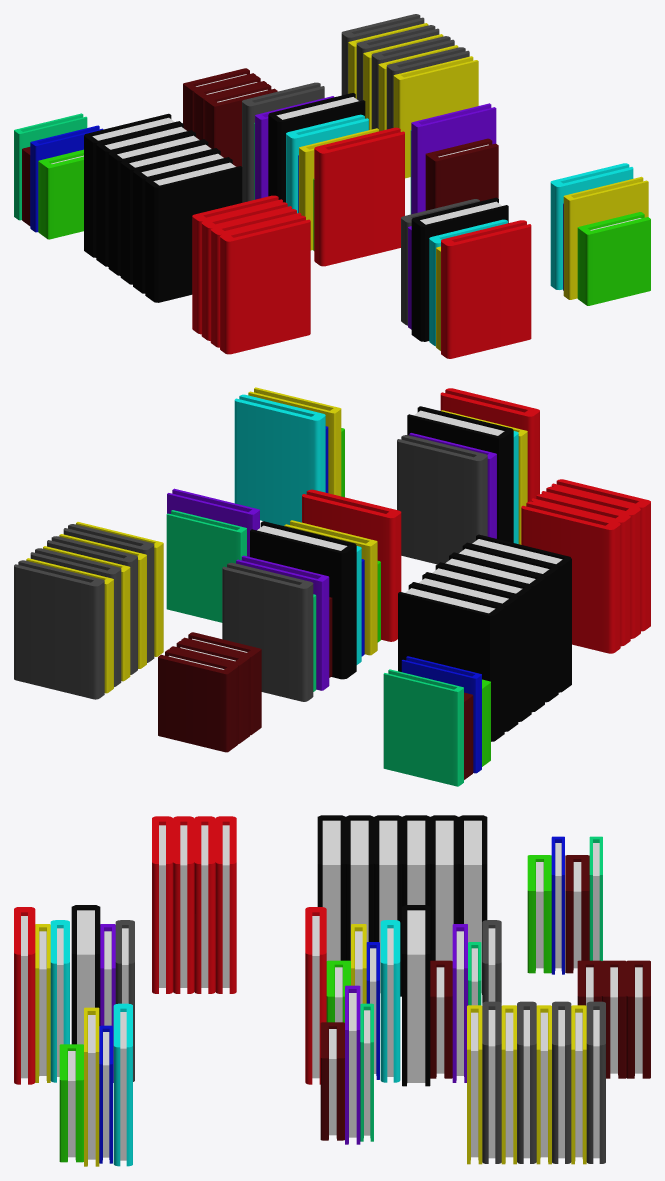
The model's file is buku buku.fbx.
3 views of the same model, one above another, from view 1: azimuth 30°, elevation 25°; view 2: azimuth 150°, elevation 25°; view 3: azimuth 270°, elevation 25° (orthographic). The views are drawn at different scales.
Visible parts, largest first — view 1: Cube.041, Cube.088, Cube.001, Cube.008, Cube.092, Cube.060, Cube.080, Cube.087, Cube.091, Cube.081, Cube.099, Cube.011 (+29 smaller); view 2: Cube.079, Cube.089, Cube.084, Cube.029, Cube.058, Cube.037, Cube.097, Cube.095, Cube.082, Cube.011, Cube.001, Cube.087 (+29 smaller); view 3: Cube.011, Cube.027, Cube.043, Cube.042, Cube.058, Cube.088, Cube.008, Cube.041, Cube.037, Cube.087, Cube.009, Cube.001 (+36 smaller).
Boxes of the visible parts, left/top/right/bottom form: Cube.041: left=220, top=215, right=310, bottom=354; Cube.088: left=441, top=220, right=531, bottom=358; Cube.001: left=314, top=127, right=404, bottom=266; Cube.008: left=145, top=158, right=242, bottom=302; Cube.092: left=577, top=212, right=650, bottom=305; Cube.060: left=393, top=56, right=478, bottom=178; Cube.080: left=425, top=138, right=498, bottom=210; Cube.087: left=411, top=197, right=508, bottom=341; Cube.091: left=563, top=176, right=648, bottom=299; Cube.081: left=411, top=103, right=496, bottom=214; Cube.099: left=38, top=149, right=83, bottom=239; Cube.011: left=268, top=93, right=365, bottom=202; Cube.079: left=14, top=560, right=104, bottom=699; Cube.089: left=234, top=394, right=325, bottom=525; Cube.084: left=397, top=435, right=487, bottom=564; Cube.029: left=222, top=562, right=313, bottom=701; Cube.058: left=521, top=501, right=620, bottom=653; Cube.037: left=398, top=584, right=504, bottom=741; Cube.097: left=383, top=669, right=463, bottom=786; Cube.095: left=158, top=649, right=238, bottom=752; Cube.082: left=166, top=510, right=246, bottom=622; Cube.011: left=250, top=521, right=356, bottom=679; Cube.001: left=302, top=489, right=401, bottom=641; Cube.087: left=407, top=406, right=513, bottom=542; Cube.011: left=402, top=905, right=430, bottom=1086; Cube.027: left=430, top=815, right=458, bottom=960; Cube.043: left=194, top=816, right=215, bottom=993; Cube.042: left=173, top=816, right=194, bottom=993; Cube.058: left=215, top=816, right=236, bottom=993; Cube.088: left=14, top=907, right=35, bottom=1084; Cube.008: left=317, top=815, right=345, bottom=960; Cube.041: left=152, top=816, right=172, bottom=993; Cube.037: left=458, top=815, right=487, bottom=994; Cube.087: left=71, top=905, right=100, bottom=1044; Cube.009: left=345, top=815, right=373, bottom=960; Cube.001: left=305, top=907, right=326, bottom=1084.
Bounding box in the file's own units: 68.61 × 18.38 × 80.11.
